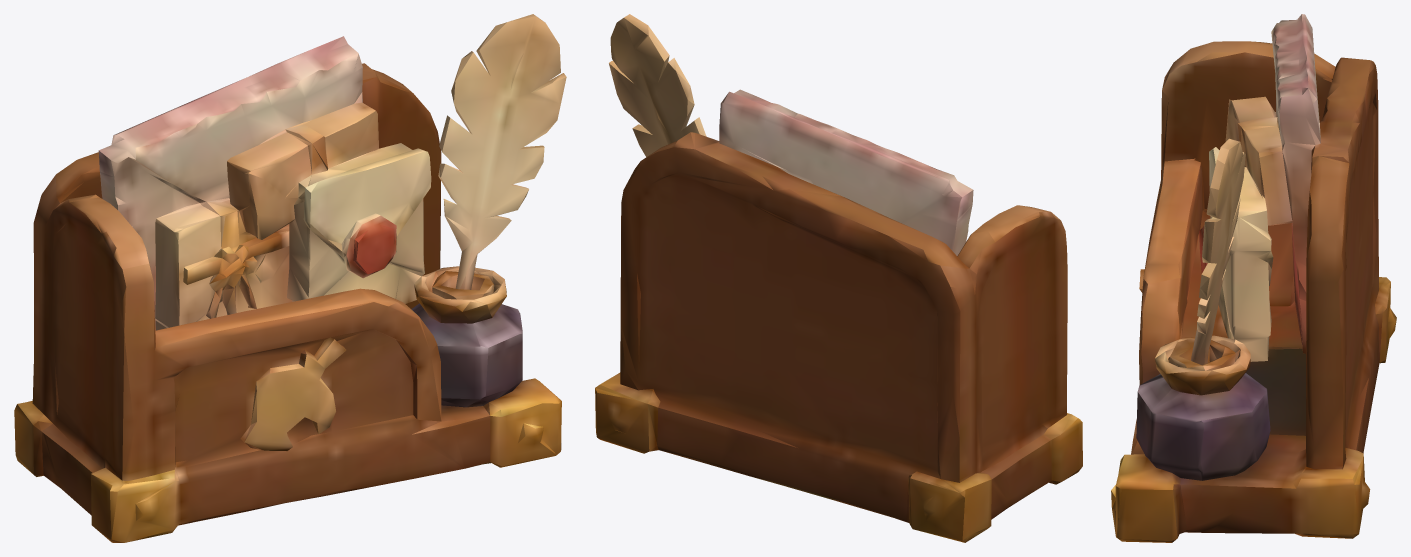
Rendered from deco46.glb.
3 views of the same model, side by side, from view 1: azimuth 30°, elevation 25°; view 2: azimuth 150°, elevation 25°; view 3: azimuth 270°, elevation 25° (orthographic). The views are drawn at different scales.
Bounding box in the file's own units: 0.2374 × 0.1886 × 0.1196.
Materials: 1 (1 with a texture image).
